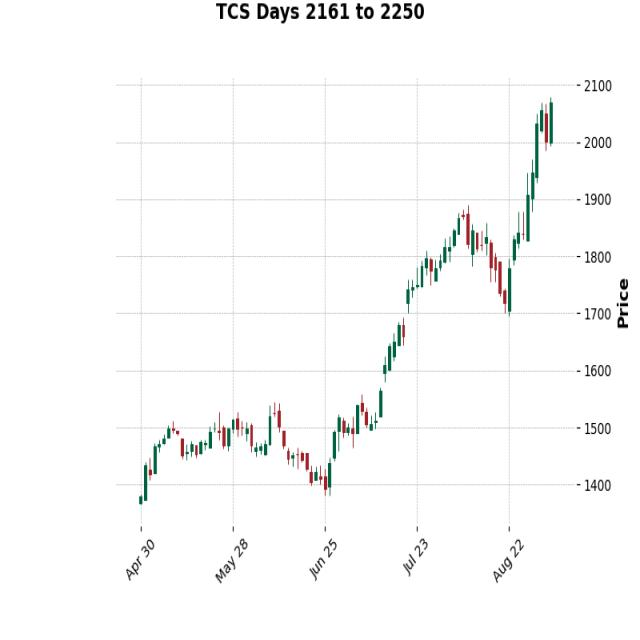Triple Bottom Reversal: (117, 397, 375, 498)
